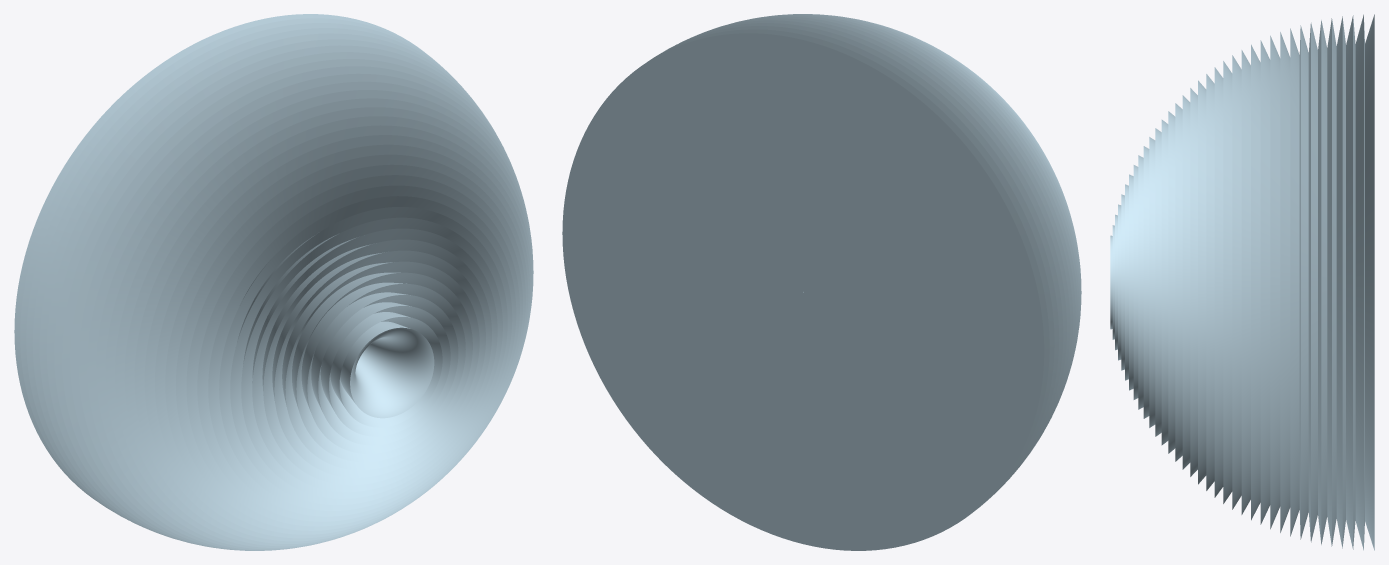
The model's file is lensconcept.gltf.
The picture shows the model from 3 angles, left to right: view 1: azimuth 30°, elevation 25°; view 2: azimuth 150°, elevation 25°; view 3: azimuth 270°, elevation 25°; orthographic projection. The views are drawn at different scales.
Parts seen in each view (by area): view 1: mesh36_meshnode_36, mesh32_meshnode_32, mesh34_meshnode_34, mesh38_meshnode_38, mesh30_meshnode_30, mesh40_meshnode_40, mesh28_meshnode_28, mesh42_meshnode_42, mesh44_meshnode_44, mesh26_meshnode_26, mesh46_meshnode_46, mesh48_meshnode_48 (+34 smaller); view 2: mesh1_meshnode_1, mesh71_meshnode_71, mesh69_meshnode_69, mesh67_meshnode_67, mesh65_meshnode_65, mesh63_meshnode_63, mesh61_meshnode_61, mesh59_meshnode_59, mesh57_meshnode_57, mesh55_meshnode_55, mesh53_meshnode_53, mesh51_meshnode_51 (+2 smaller); view 3: mesh55_meshnode_55, mesh53_meshnode_53, mesh51_meshnode_51, mesh0_meshnode_0, mesh57_meshnode_57, mesh49_meshnode_49, mesh70_meshnode_70, mesh47_meshnode_47, mesh59_meshnode_59, mesh45_meshnode_45, mesh43_meshnode_43, mesh41_meshnode_41 (+30 smaller).
Part boxes in pixels (left/top/right/bottom): mesh36_meshnode_36: left=165, top=144, right=528, bottom=534; mesh32_meshnode_32: left=186, top=164, right=522, bottom=526; mesh34_meshnode_34: left=176, top=154, right=525, bottom=530; mesh38_meshnode_38: left=155, top=135, right=530, bottom=538; mesh30_meshnode_30: left=197, top=175, right=519, bottom=521; mesh40_meshnode_40: left=144, top=125, right=531, bottom=541; mesh28_meshnode_28: left=208, top=185, right=516, bottom=516; mesh42_meshnode_42: left=134, top=116, right=532, bottom=543; mesh44_meshnode_44: left=124, top=107, right=533, bottom=546; mesh26_meshnode_26: left=219, top=196, right=512, bottom=510; mesh46_meshnode_46: left=115, top=98, right=533, bottom=547; mesh48_meshnode_48: left=105, top=90, right=532, bottom=549; mesh1_meshnode_1: left=562, top=33, right=1044, bottom=550; mesh71_meshnode_71: left=651, top=29, right=1049, bottom=507; mesh69_meshnode_69: left=665, top=26, right=1054, bottom=497; mesh67_meshnode_67: left=680, top=23, right=1059, bottom=485; mesh65_meshnode_65: left=698, top=20, right=1063, bottom=473; mesh63_meshnode_63: left=712, top=18, right=1066, bottom=455; mesh61_meshnode_61: left=734, top=16, right=1070, bottom=440; mesh59_meshnode_59: left=750, top=15, right=1073, bottom=425; mesh57_meshnode_57: left=769, top=14, right=1075, bottom=407; mesh55_meshnode_55: left=788, top=14, right=1077, bottom=388; mesh53_meshnode_53: left=808, top=14, right=1079, bottom=366; mesh51_meshnode_51: left=831, top=15, right=1080, bottom=349; mesh55_meshnode_55: left=1280, top=32, right=1290, bottom=532; mesh53_meshnode_53: left=1270, top=35, right=1280, bottom=529; mesh51_meshnode_51: left=1260, top=40, right=1270, bottom=524; mesh0_meshnode_0: left=1365, top=14, right=1374, bottom=550; mesh57_meshnode_57: left=1290, top=28, right=1299, bottom=536; mesh49_meshnode_49: left=1251, top=44, right=1260, bottom=520; mesh70_meshnode_70: left=1355, top=14, right=1363, bottom=550; mesh47_meshnode_47: left=1241, top=50, right=1250, bottom=514; mesh59_meshnode_59: left=1300, top=25, right=1308, bottom=539; mesh45_meshnode_45: left=1232, top=55, right=1241, bottom=509; mesh43_meshnode_43: left=1223, top=61, right=1232, bottom=503; mesh41_meshnode_41: left=1214, top=67, right=1223, bottom=497.
Size of the model in its own units: 0.3052 by 0.3052 by 0.1501.
